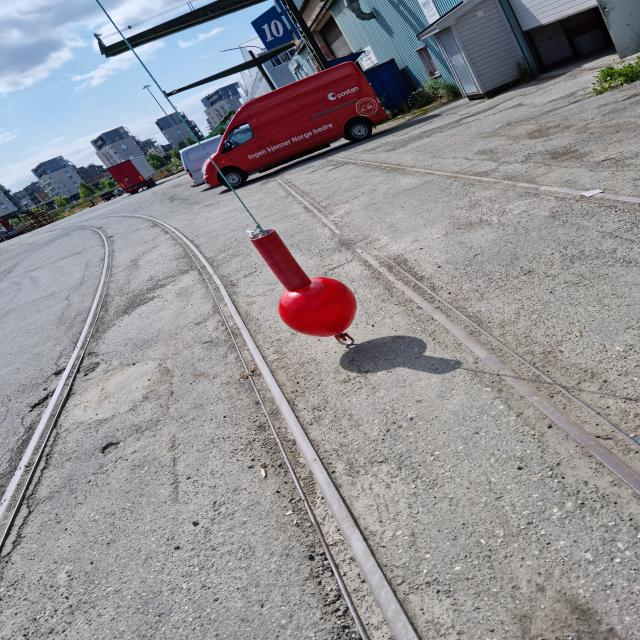red: (250, 230, 360, 336)
